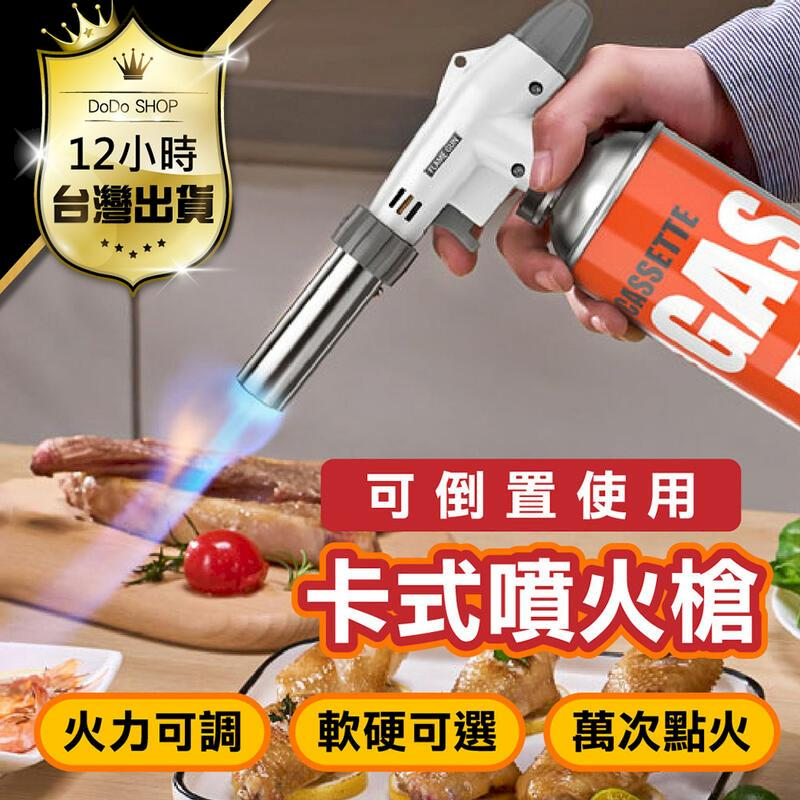gastorch: (219, 1, 797, 464)
